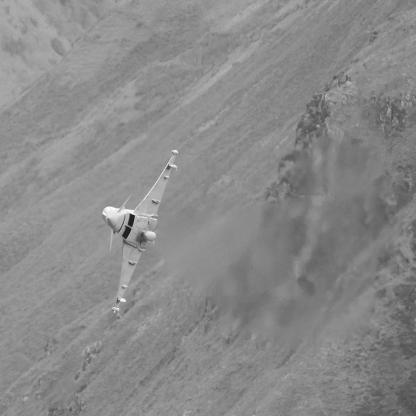EF2000: (103, 150, 179, 315)
